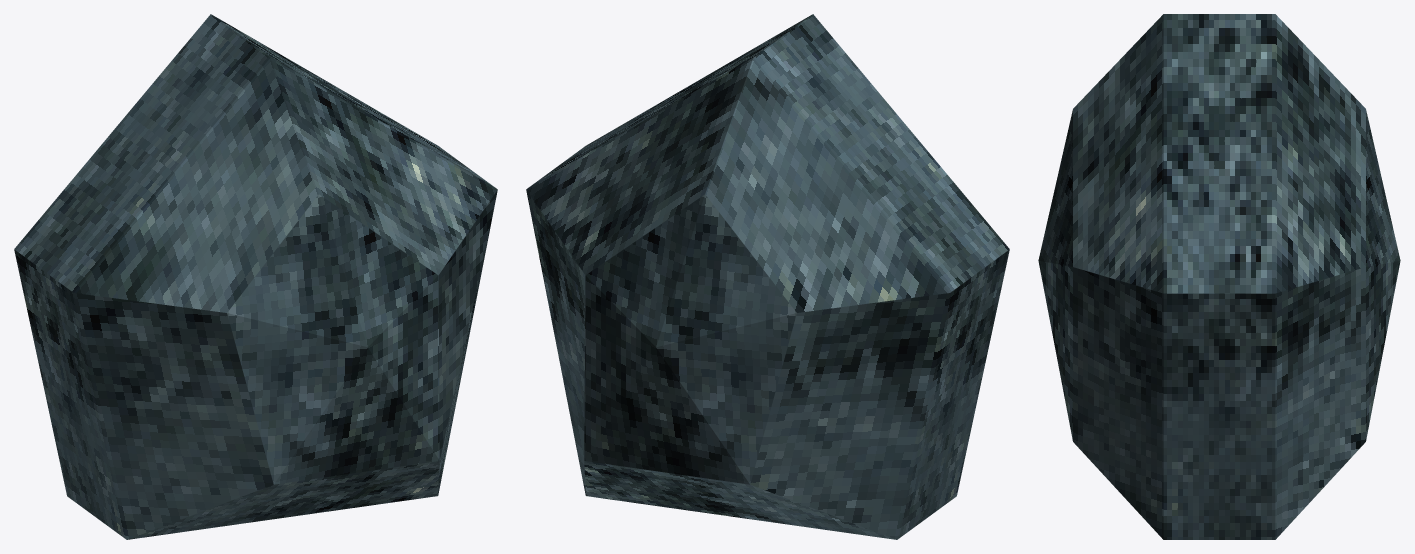
The model's file is rock.glb.
3 views of the same model, side by side, from view 1: azimuth 30°, elevation 25°; view 2: azimuth 150°, elevation 25°; view 3: azimuth 270°, elevation 25° (orthographic). The views are drawn at different scales.
Parts seen in each view (by area): view 1: Sphere; view 2: Sphere; view 3: Sphere.
Part boxes in pixels (x1,y1,x2,y2): Sphere: [14, 14, 497, 539]; Sphere: [526, 14, 1009, 539]; Sphere: [1038, 14, 1400, 539].
Size of the model in its own units: 0.3928 by 0.4242 by 0.3099.
Materials: 1 (1 with a texture image).
